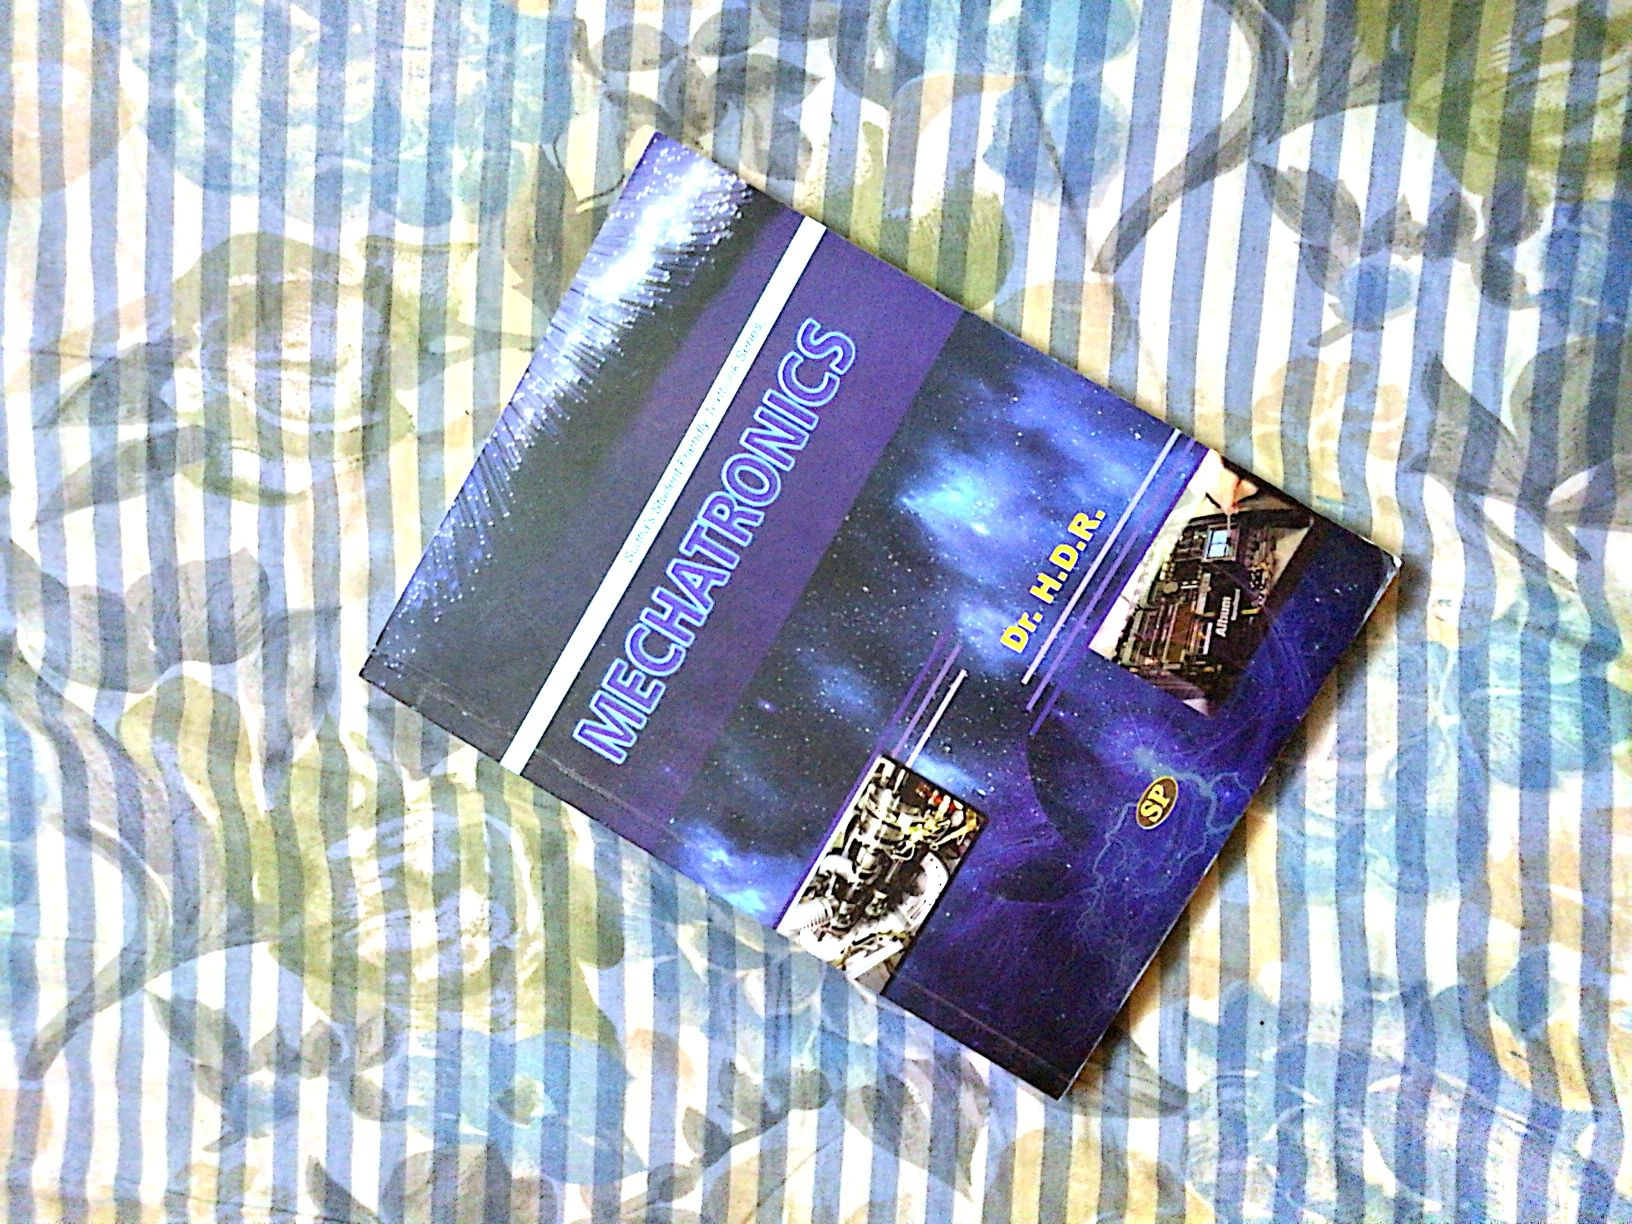mechatronics: (383, 120, 1423, 1104)
